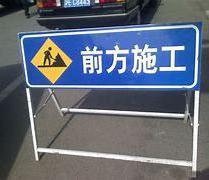sign: (19, 25, 200, 89)
